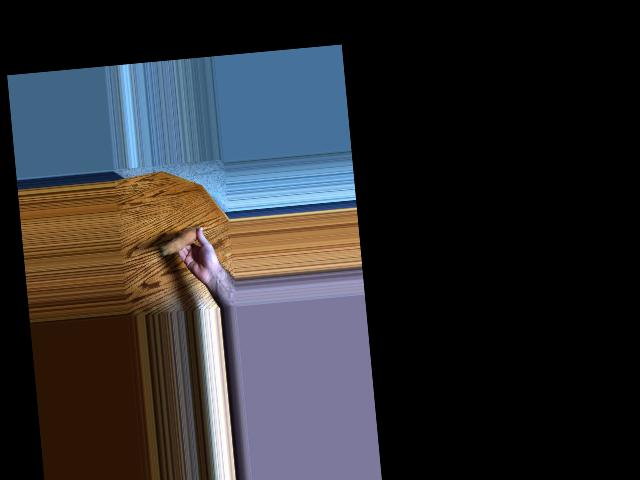sweet_potato: (159, 226, 203, 258)
